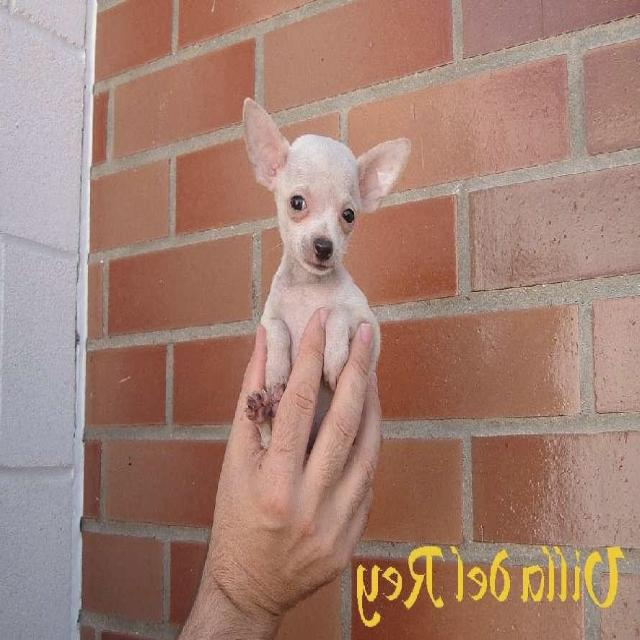chihuahua: (238, 97, 412, 467)
